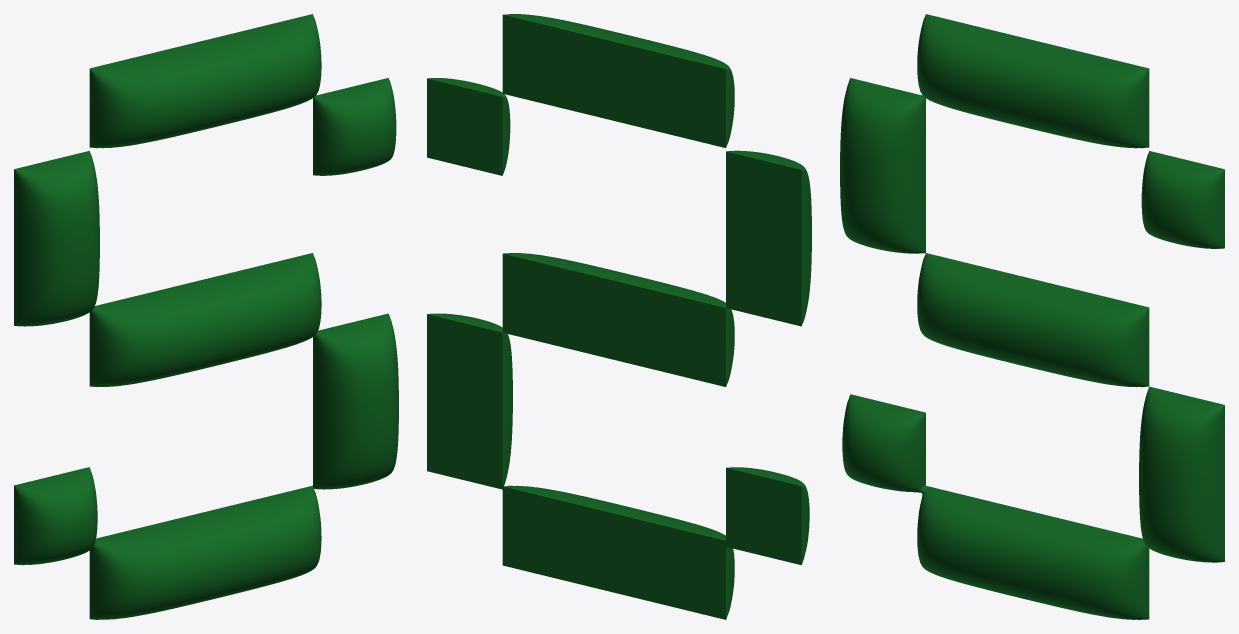
The picture shows the model from 3 angles, left to right: view 1: azimuth 30°, elevation 25°; view 2: azimuth 150°, elevation 25°; view 3: azimuth 330°, elevation 25°; orthographic projection.
Visible parts, largest first — view 1: AdobeIllustratorMesh3; view 2: AdobeIllustratorMesh3; view 3: AdobeIllustratorMesh3.
Boxes of the visible parts, box(x1,y1,x2,y2) form: AdobeIllustratorMesh3: box(14, 14, 398, 619); AdobeIllustratorMesh3: box(427, 14, 811, 619); AdobeIllustratorMesh3: box(840, 14, 1224, 619).
Bounding box in the file's own units: 68.47 × 96.22 × 8.65.
